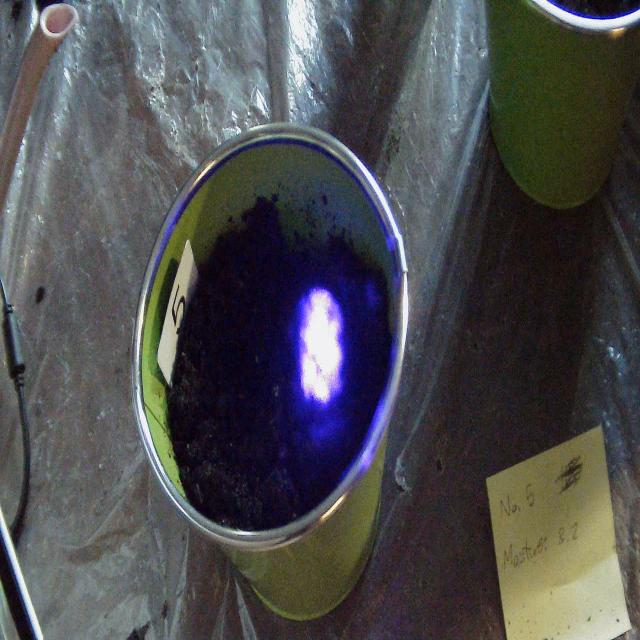soil-moisture-8.2: (296, 284, 346, 409)
